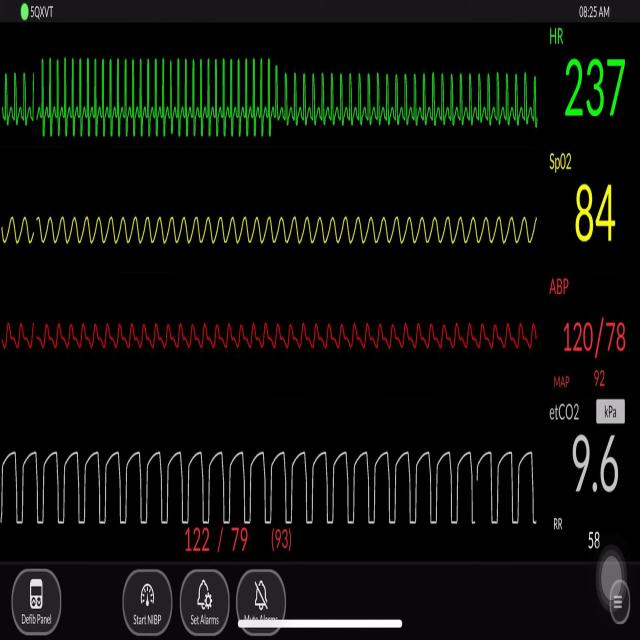danger: (38, 48, 280, 147), (289, 60, 543, 137), (3, 58, 36, 137)
